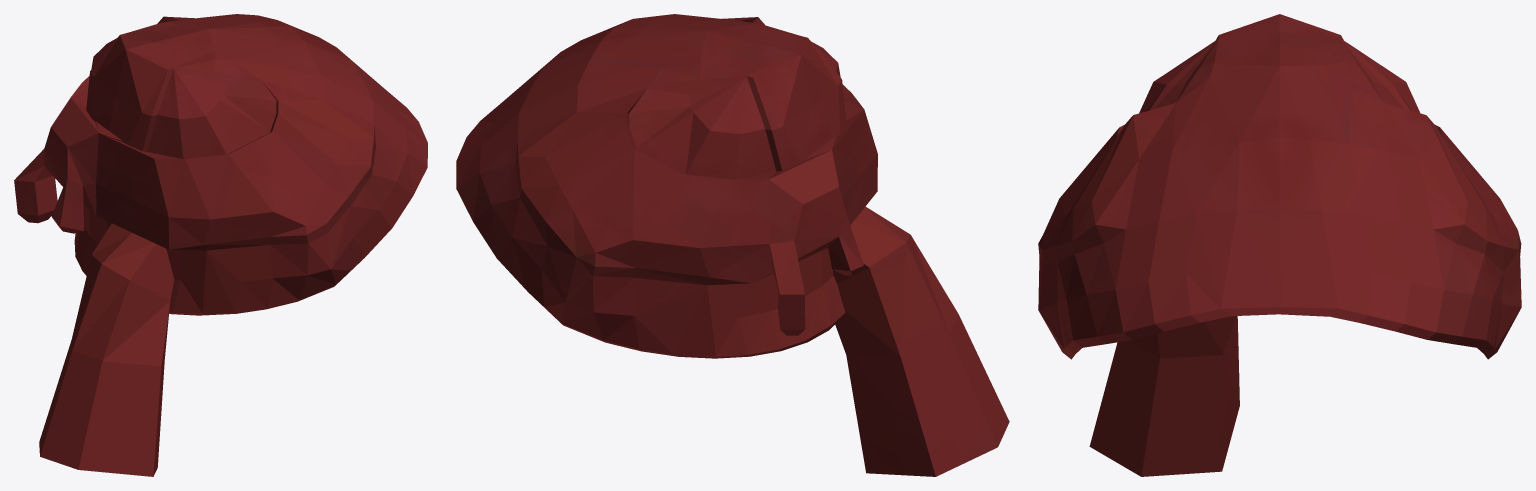
Rendered from PIRATE BANDANA.fbx.
3 renders of one model, left to right at view 1: azimuth 30°, elevation 25°; view 2: azimuth 150°, elevation 25°; view 3: azimuth 270°, elevation 25°, orthographic. The views are drawn at different scales.
Visible parts, largest first — view 1: PIRATE_BANDANA; view 2: PIRATE_BANDANA; view 3: PIRATE_BANDANA.
Boxes of the visible parts, box(x1,y1,x2,y2) form: PIRATE_BANDANA: box(14, 14, 427, 476); PIRATE_BANDANA: box(456, 14, 1009, 476); PIRATE_BANDANA: box(1038, 14, 1521, 476).
Size of the model in its own units: 34.44 by 31.65 by 28.96.
